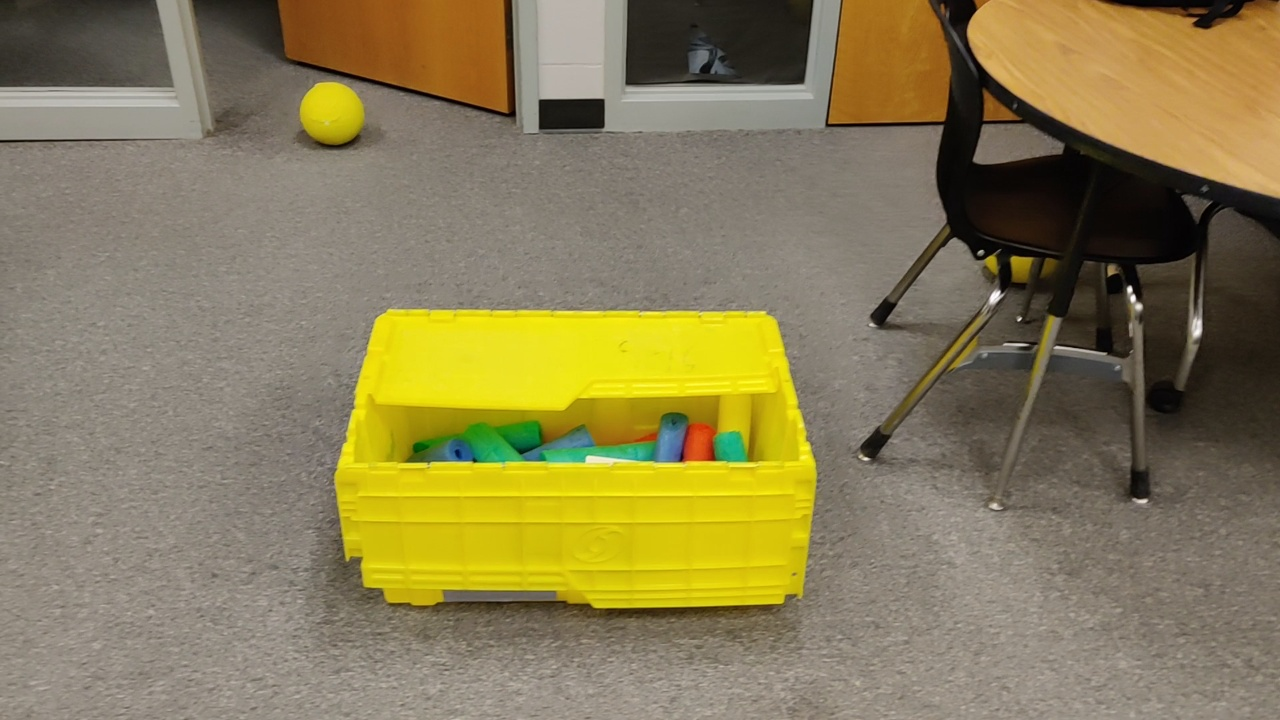Ball: (300, 81, 364, 147)
